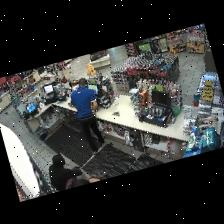person: (71, 78, 104, 154), (49, 154, 82, 190)
